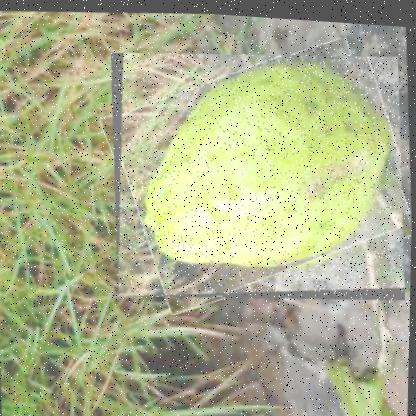guava: (106, 34, 411, 309)
